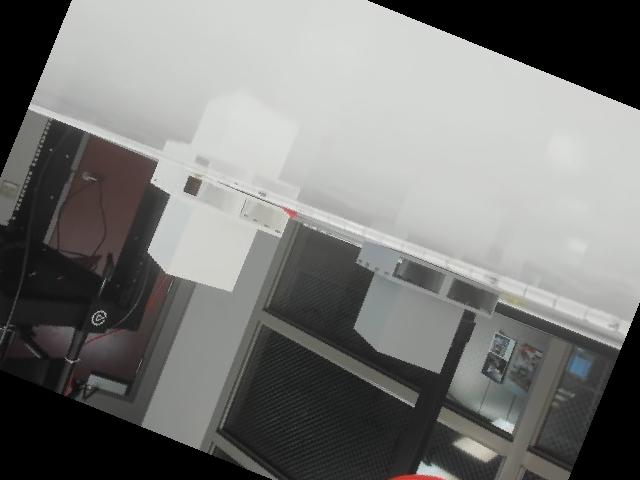grey pallet: (333, 234, 510, 380)
white pallet: (132, 143, 302, 309)
